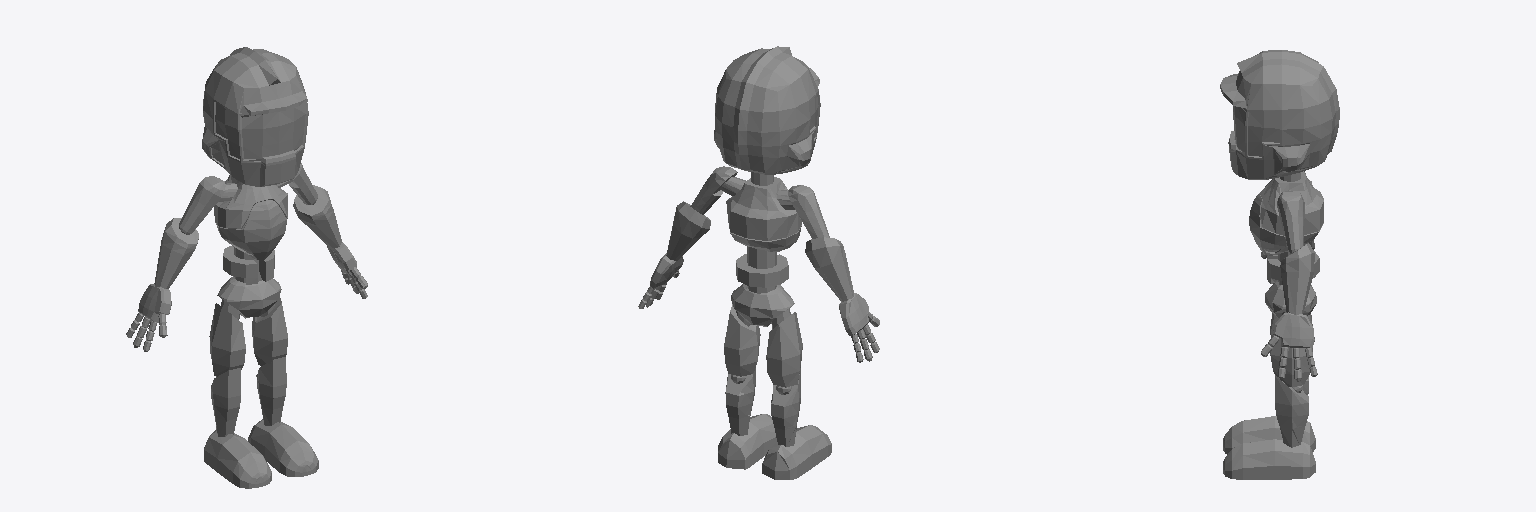
The model's file is tgcito-classic.obj.
The picture shows the model from 3 angles: view 1: azimuth 30°, elevation 25°; view 2: azimuth 150°, elevation 25°; view 3: azimuth 270°, elevation 25°; orthographic projection.
Parts seen in each view (by area): view 1: Object03; view 2: Object03; view 3: Object03.
Part boxes in pixels (left/top/right/bottom): Object03: left=126, top=47, right=367, bottom=488; Object03: left=638, top=46, right=879, bottom=479; Object03: left=1220, top=50, right=1339, bottom=479.
Size of the model in its own units: 77.26 by 133 by 35.32.